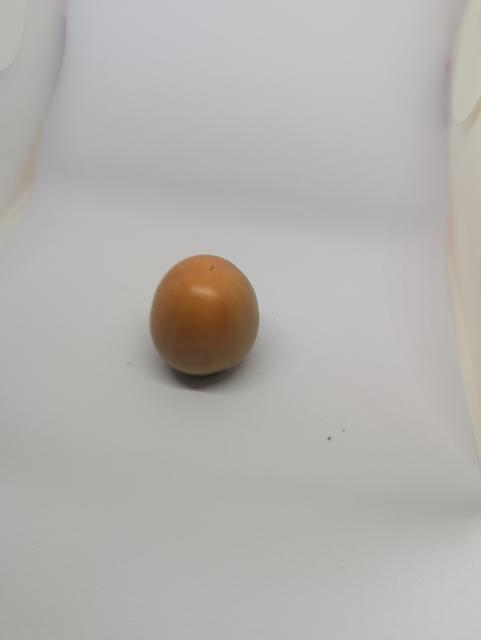turning: (142, 245, 266, 386)
